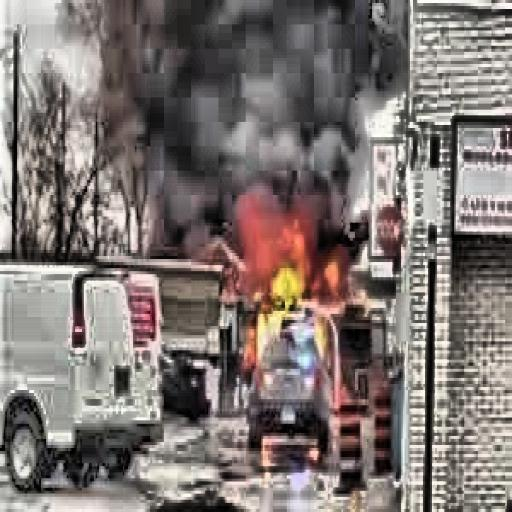fire: (219, 195, 348, 393)
